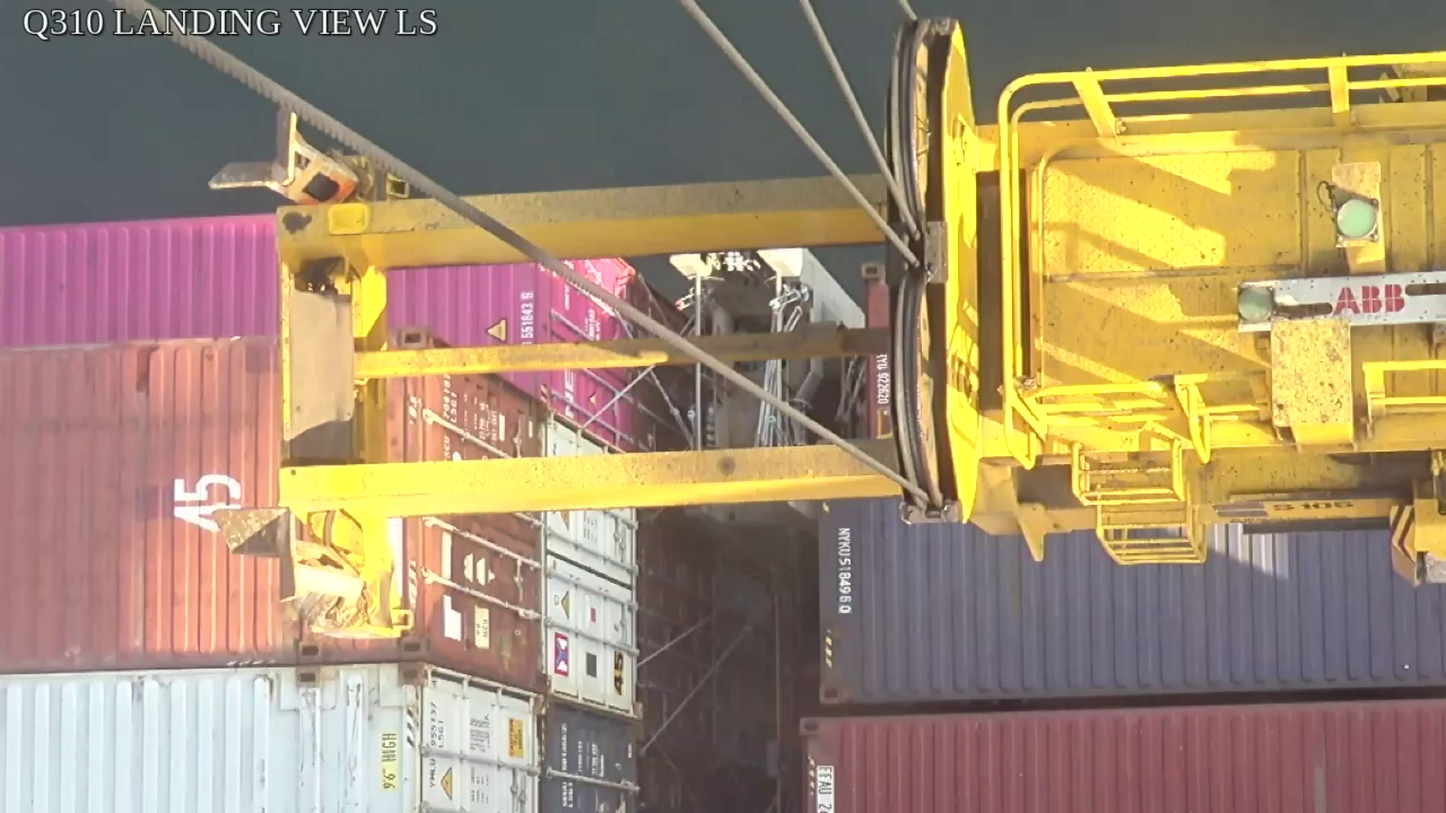aa: (884, 17, 983, 528)
